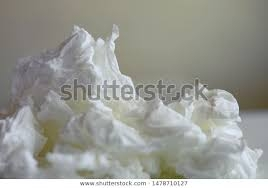paper: (5, 21, 130, 130), (148, 86, 265, 178), (48, 102, 159, 177), (1, 106, 53, 176)
